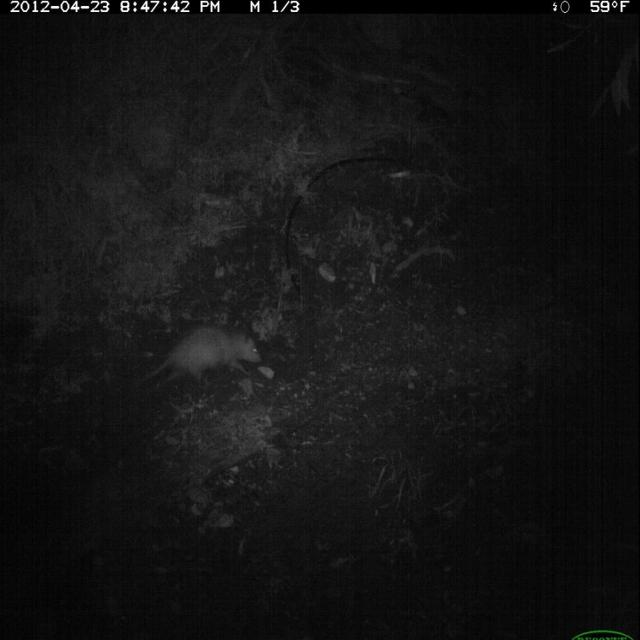opossum: (141, 315, 266, 390)
